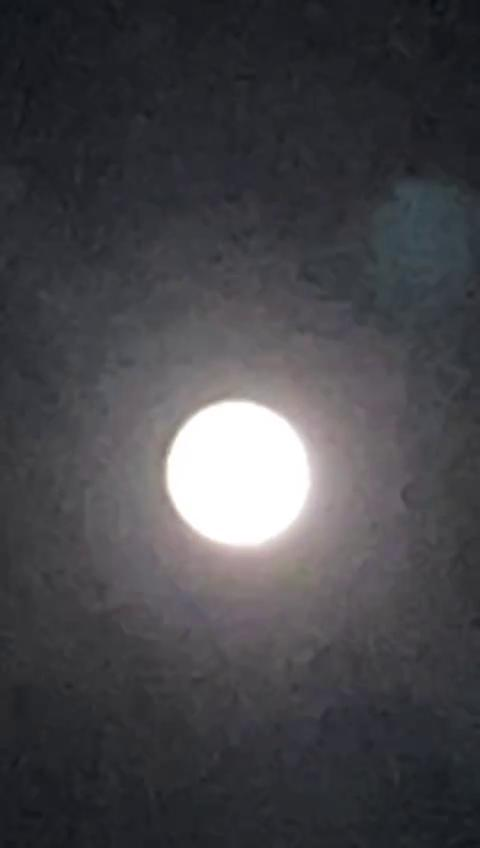moon: (160, 390, 307, 554)
